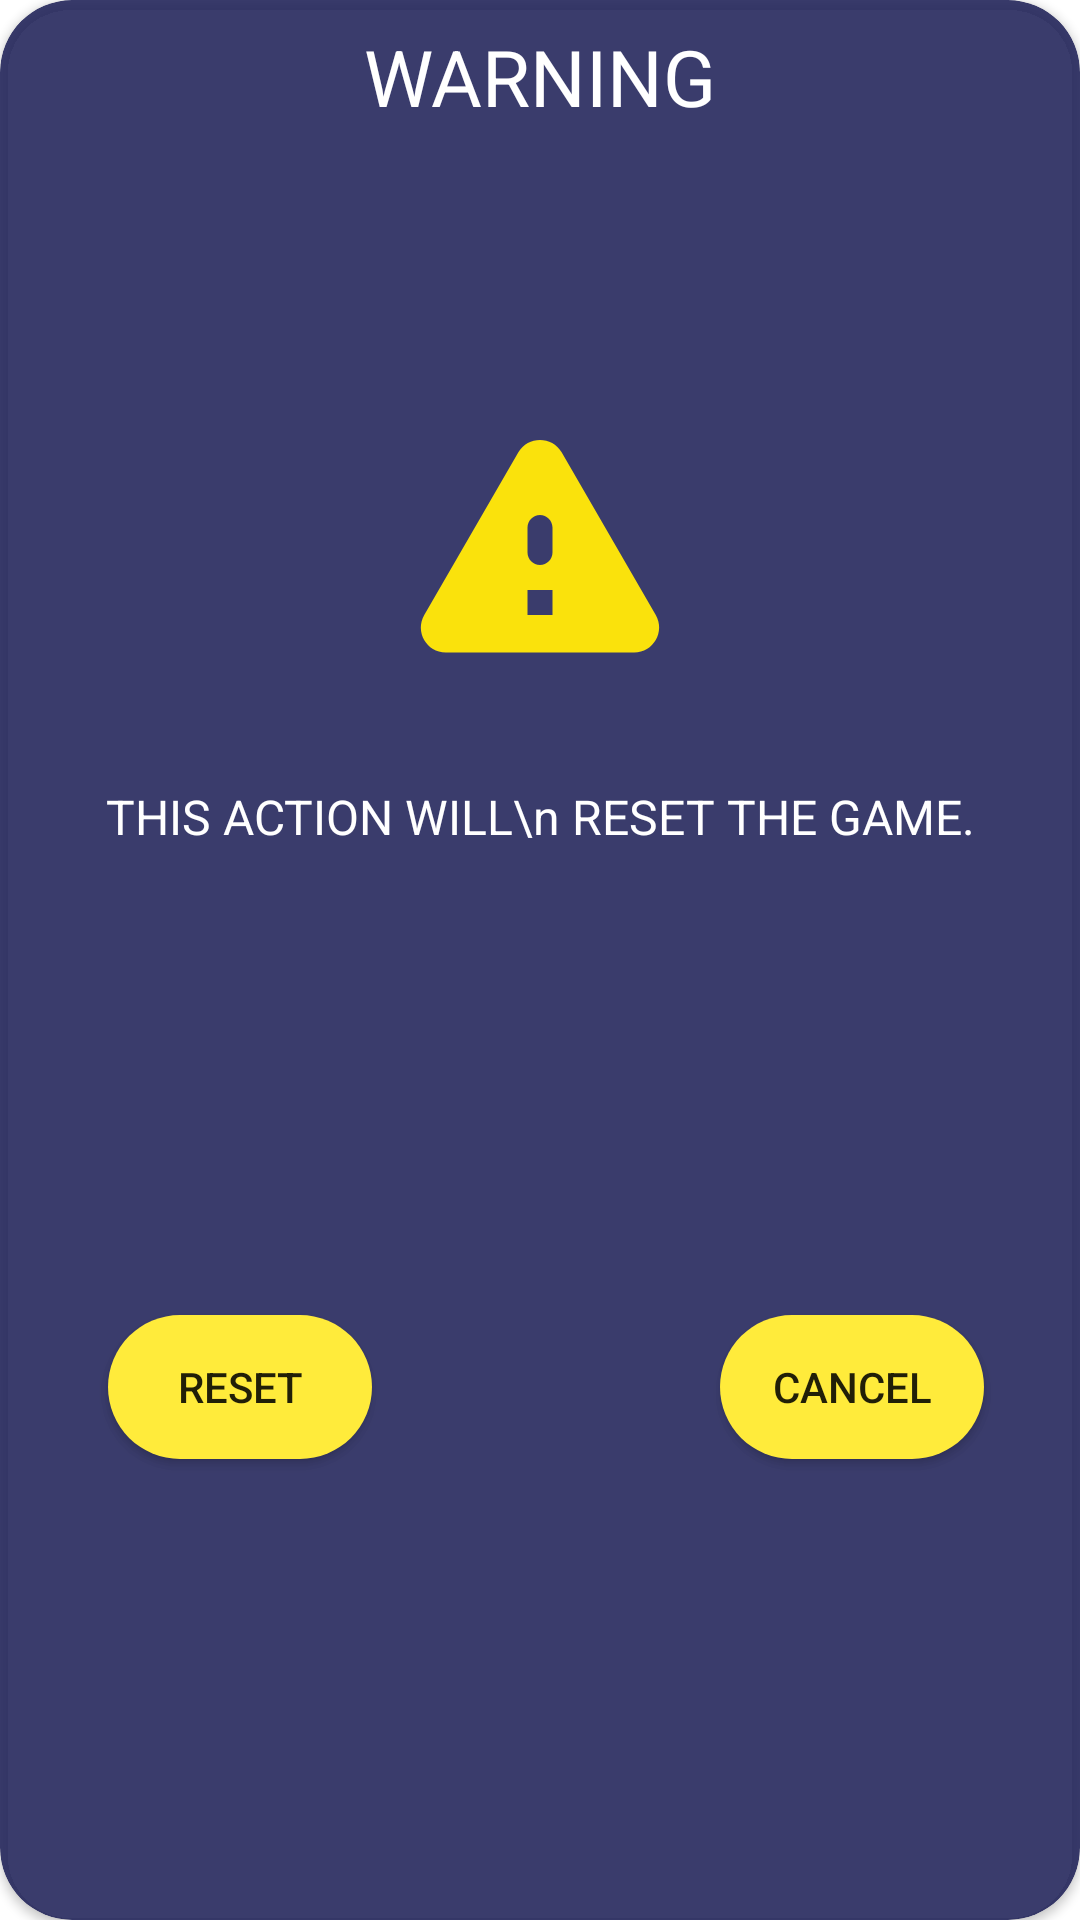

Icons on this 1080*1920 Android screen, each with the point to tap as point (x, y):
warning: point (539, 546)
